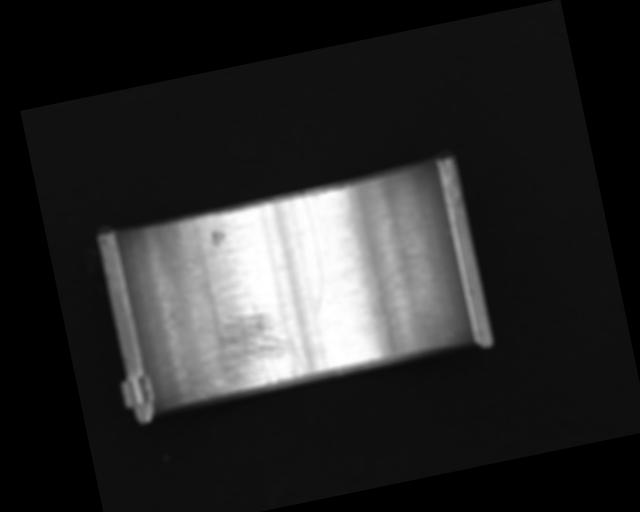bruise: (209, 227, 228, 248)
nick: (291, 192, 331, 314)
scratch: (187, 292, 312, 400)
